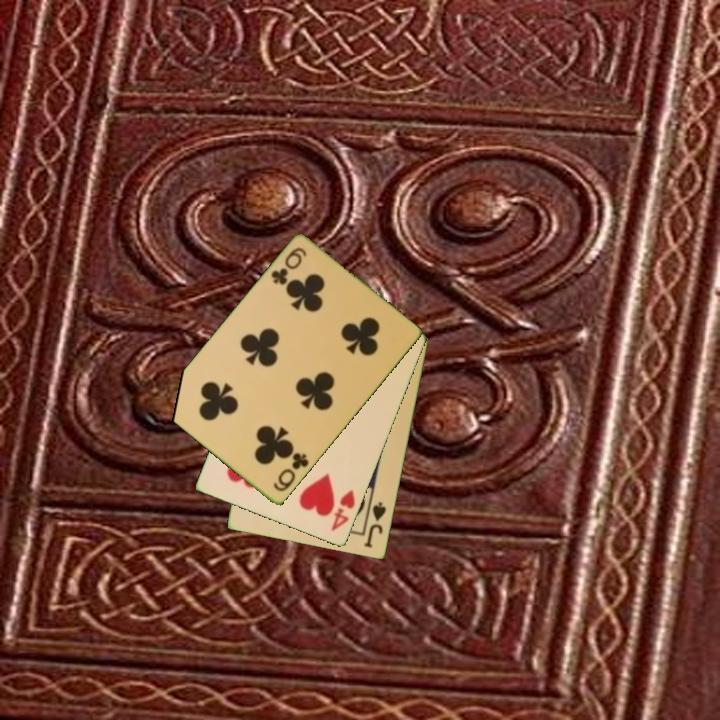4h: (328, 487, 358, 534)
6c: (267, 244, 310, 289), (270, 449, 312, 495)
Js: (361, 499, 389, 551)
